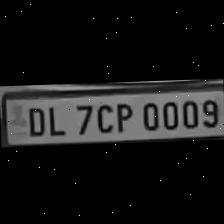0: (136, 97, 160, 130), (159, 96, 179, 130), (178, 96, 198, 129)
7: (68, 100, 94, 134)
9: (196, 95, 220, 128)
C: (92, 98, 114, 132)
D: (22, 101, 46, 135)
L: (43, 100, 67, 136)
P: (111, 98, 132, 133)
